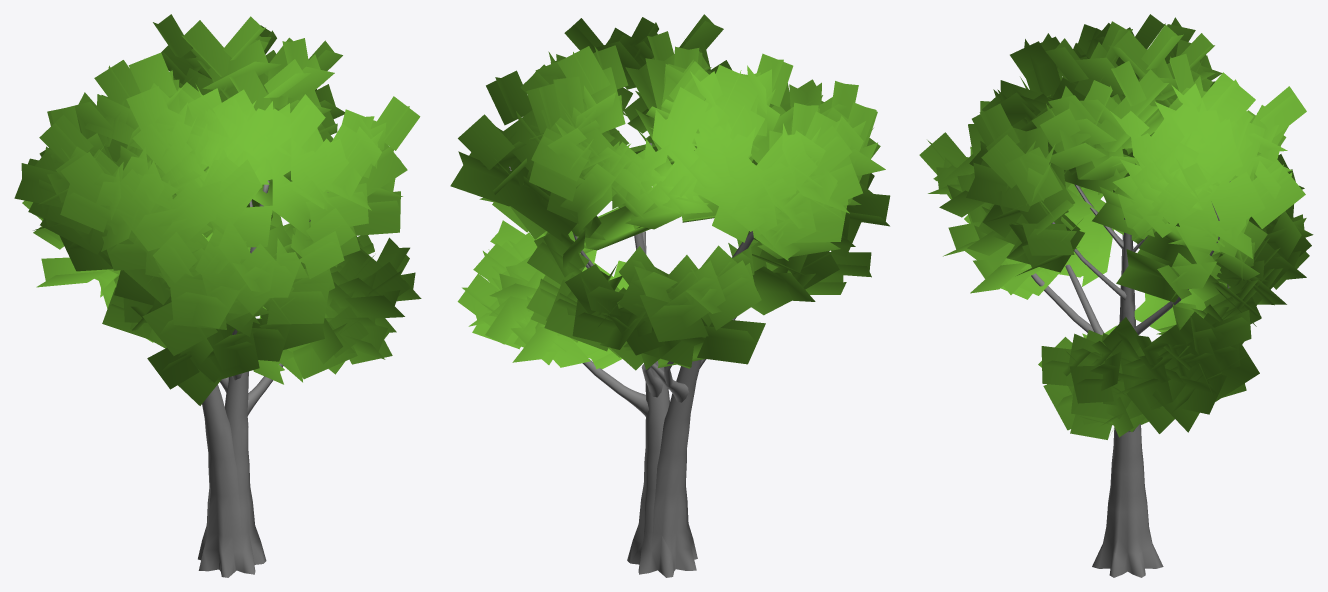
The model's file is SM_tree_oakleaf_01.fbx.
3 renders of one model, left to right at view 1: azimuth 30°, elevation 25°; view 2: azimuth 150°, elevation 25°; view 3: azimuth 270°, elevation 25°, orthographic. The views are drawn at different scales.
Visible parts, largest first — view 1: tree232; view 2: tree232; view 3: tree232.
Part boxes in pixels (x1=…): tree232: x1=14, y1=14, x2=421, y2=577; tree232: x1=450, y1=14, x2=890, y2=577; tree232: x1=919, y1=14, x2=1313, y2=577.
Size of the model in its own units: 344 by 449 by 317.
